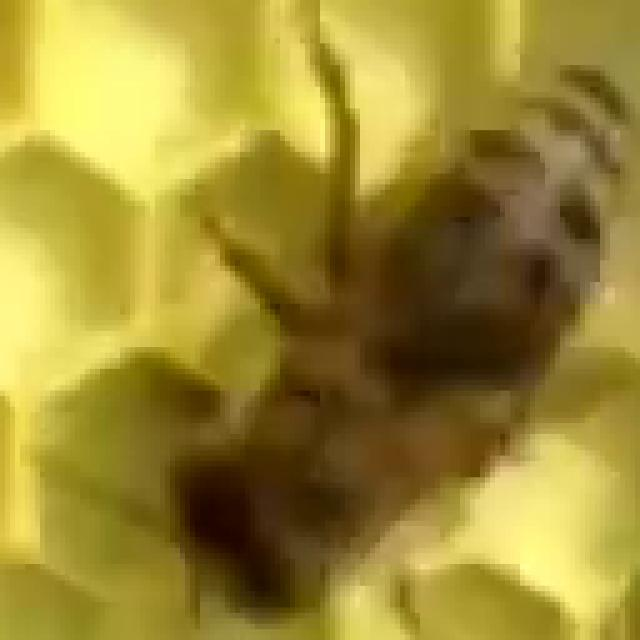honeybee: (131, 75, 626, 589)
